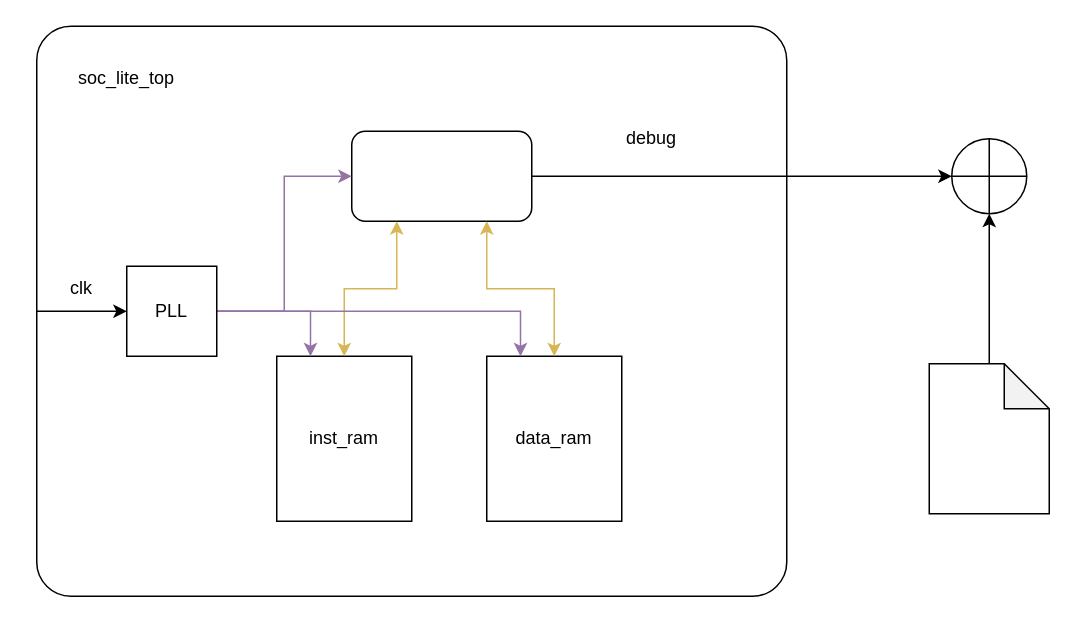
The diagram is 1076 pixels wide and 623 high, and some of its shapes have lost their labels. The centre of each missing label's shape, as x and y in pixels:
"ans" belongs at pixel 988 438.
"mycpu" belongs at pixel 441 175.
